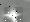person: (5, 8, 24, 22)
